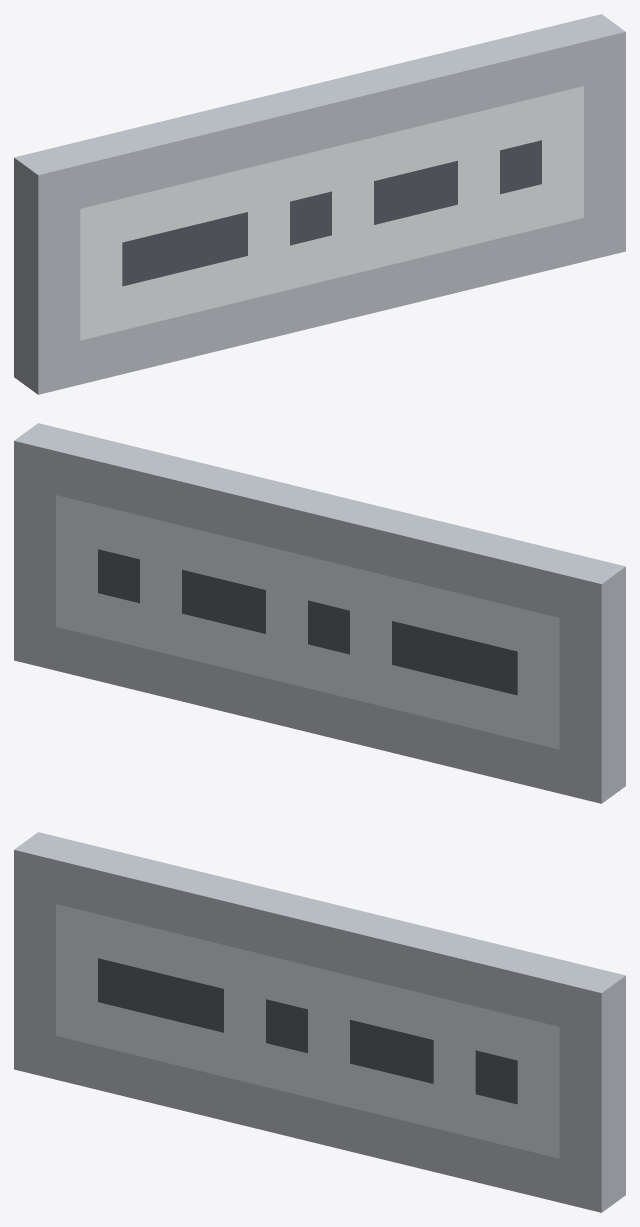
The model's file is namesign.obj.
The picture shows the model from 3 angles, top to bottom: view 1: azimuth 30°, elevation 25°; view 2: azimuth 150°, elevation 25°; view 3: azimuth 330°, elevation 25°; orthographic projection.
Size of the model in its own units: 1.4 by 0.5 by 0.1.
Materials: 1 (1 with a texture image).
